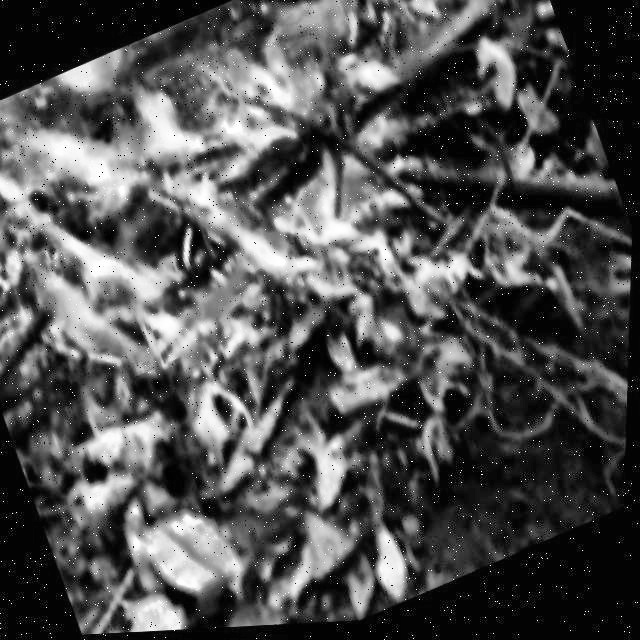Fire: (0, 74, 263, 398), (227, 142, 389, 301), (197, 33, 318, 198)
